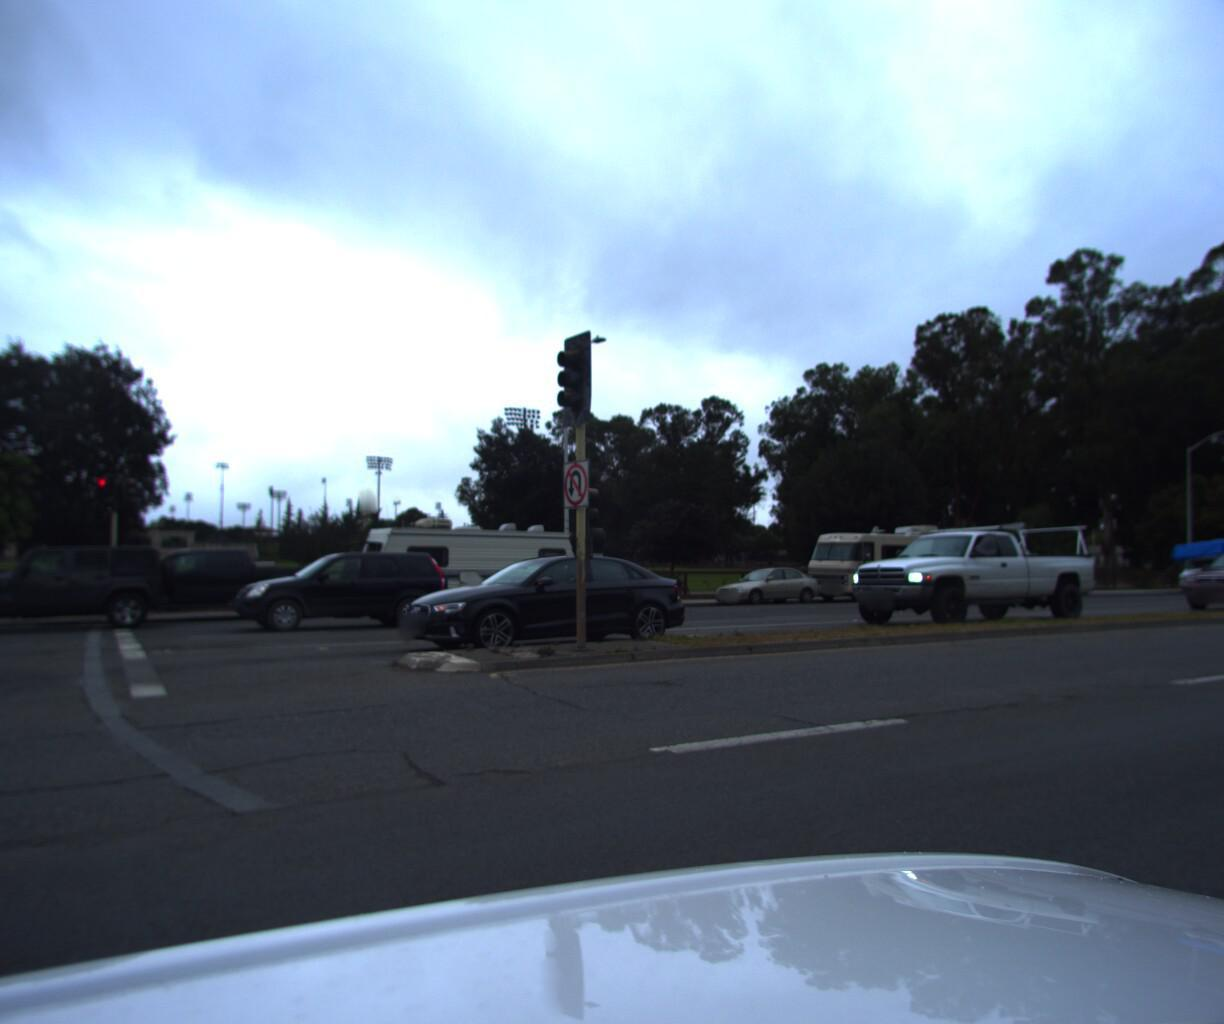car: (385, 557, 690, 664), (827, 507, 1108, 622), (827, 507, 1105, 622), (74, 548, 331, 630), (222, 547, 458, 636), (703, 556, 828, 601), (1166, 531, 1224, 600)
other_vehicle: (323, 511, 589, 620), (794, 513, 988, 595), (1155, 523, 1224, 583)
